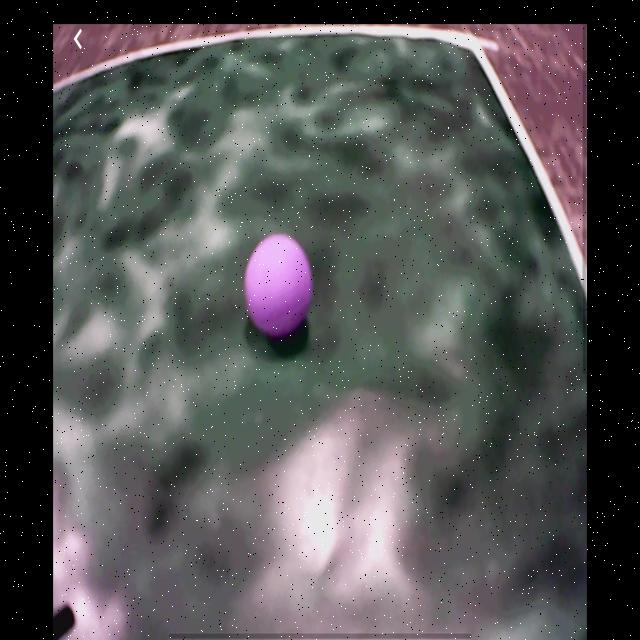ball: (243, 232, 313, 338)
